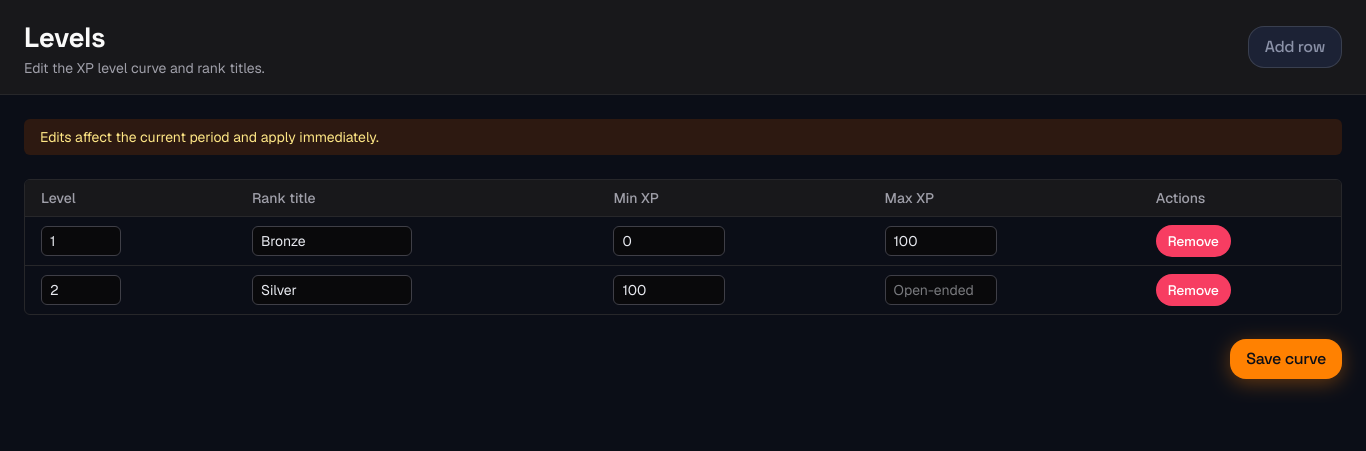
Scenario: AdminLevelsPage › blocks Save on an invalid (gapped) curve
Expected: the field showing "Bronze" is shown, [252, 226, 412, 256]
Break the gap invariant: level 1 maxXp no longer equals level 2 minXp.
Replace the text in the number field named "Max XP 1" with "50": (941, 241) [885, 226, 997, 256]
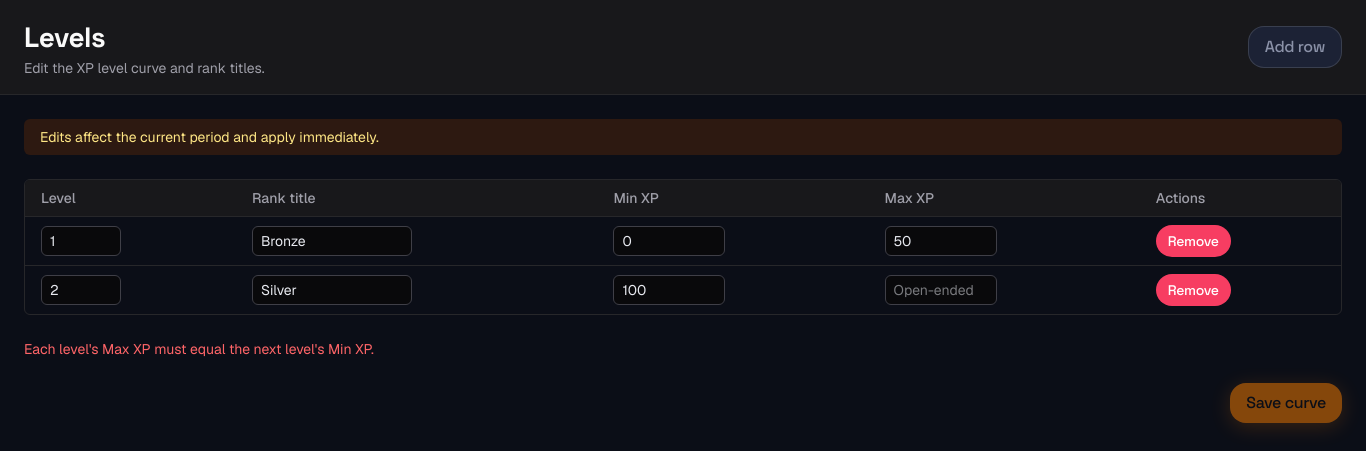
Expected: the button "Save curve" is disabled, [1230, 383, 1342, 423]
Expected: the text "Each level's Max XP must equal the next level's Min XP." is shown, [24, 340, 374, 358]
